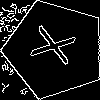X: (30, 24, 86, 70)
